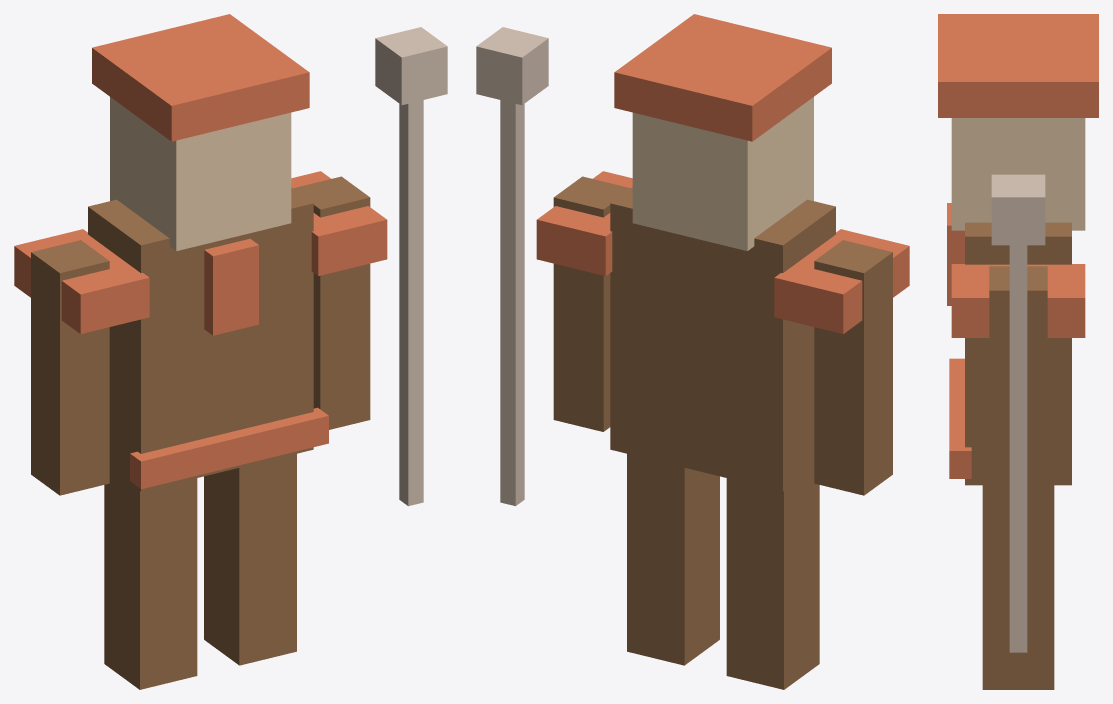
Rendered from 06_isolde_gearmantle_captain_near_avalanche.glb.
3 renders of one model, left to right at view 1: azimuth 30°, elevation 25°; view 2: azimuth 150°, elevation 25°; view 3: azimuth 270°, elevation 25°, orthographic.
Visible parts, largest first — view 1: Isolde Gearmantle, Captain near Avalanche; view 2: Isolde Gearmantle, Captain near Avalanche; view 3: Isolde Gearmantle, Captain near Avalanche.
Boxes of the visible parts, x1=… form: Isolde Gearmantle, Captain near Avalanche: x1=14, y1=14, x2=447, y2=689; Isolde Gearmantle, Captain near Avalanche: x1=476, y1=14, x2=909, y2=689; Isolde Gearmantle, Captain near Avalanche: x1=938, y1=14, x2=1098, y2=689.
Bounding box in the file's own units: 1.1 × 1.61 × 0.389.
